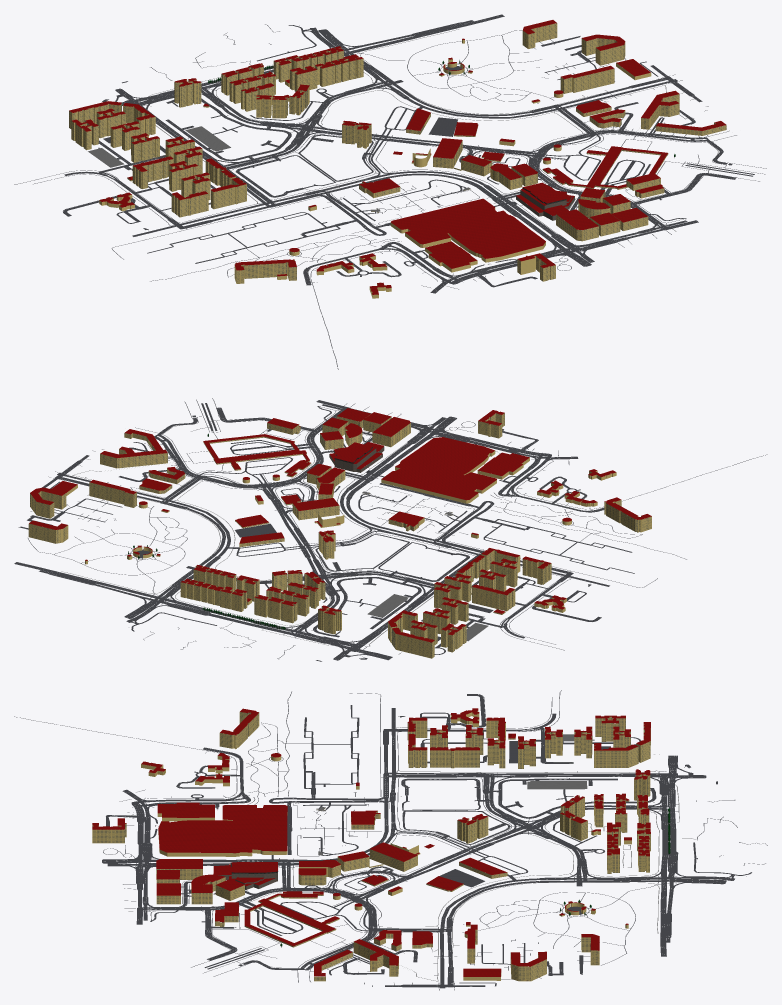
The model's file is osm3d.glb.
3 views of the same model, one above another, from view 1: azimuth 30°, elevation 25°; view 2: azimuth 150°, elevation 25°; view 3: azimuth 270°, elevation 25° (orthographic). The views are drawn at different scales.
Parts seen in each view (by area): view 1: ASPHALT, Plaster002, RoofingTiles010, Windows, Concrete034; view 2: ASPHALT, Plaster002, RoofingTiles010, Windows, Concrete034, STONE; view 3: ASPHALT, RoofingTiles010, Plaster002, Windows, Concrete034, STONE.
Boxes of the visible parts, x1,y1,x2,y2 form: ASPHALT: (14, 14, 766, 369); Plaster002: (69, 23, 726, 298); RoofingTiles010: (69, 20, 726, 294); Windows: (69, 23, 726, 283); Concrete034: (88, 29, 718, 257); ASPHALT: (14, 398, 767, 661); Plaster002: (28, 413, 651, 658); RoofingTiles010: (29, 408, 651, 642); Windows: (29, 413, 651, 657); Concrete034: (61, 403, 589, 657); STONE: (329, 447, 384, 472); ASPHALT: (14, 690, 767, 990); RoofingTiles010: (92, 708, 650, 976); Plaster002: (92, 711, 650, 981); Windows: (92, 712, 650, 980); Concrete034: (128, 716, 690, 985); STONE: (218, 863, 277, 889).
Bounding box in the file's own units: 1294 × 42.58 × 1374.
19 materials, 18 textured.
